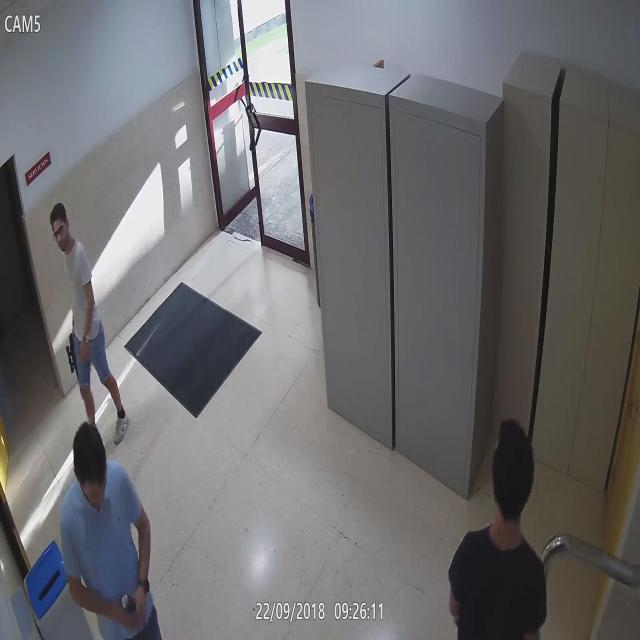pistol: (64, 325, 85, 406)
